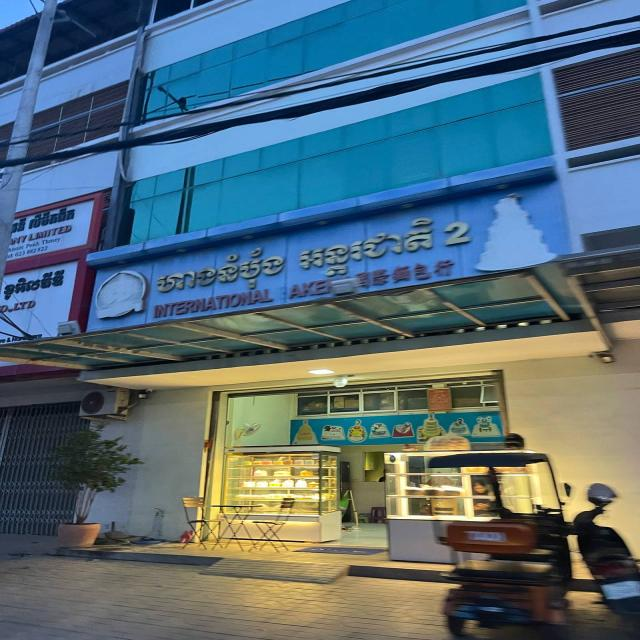19: (153, 210, 479, 300)
Yolov11kh: (3, 267, 68, 302), (27, 202, 79, 228)
